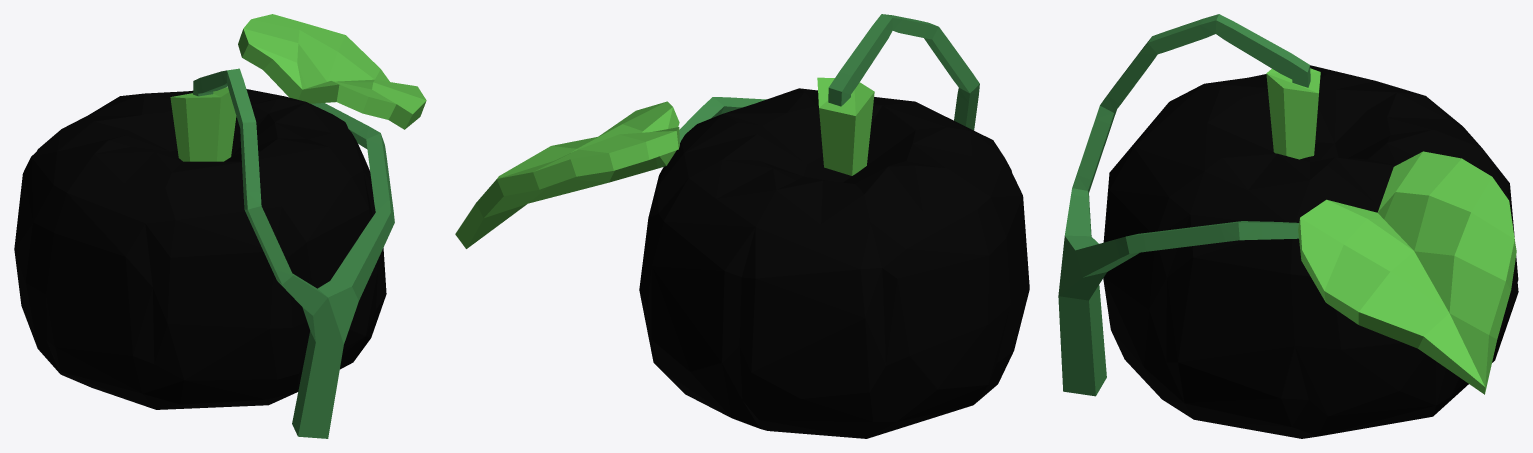
Rendered from Pumpkin_S_Growing.fbx.
3 renders of one model, left to right at view 1: azimuth 30°, elevation 25°; view 2: azimuth 150°, elevation 25°; view 3: azimuth 270°, elevation 25°, orthographic. The views are drawn at different scales.
Visible parts, largest first — view 1: Pumpkin_S_01, Pumpkin_S_01_Groowing; view 2: Pumpkin_S_01, Pumpkin_S_01_Groowing; view 3: Pumpkin_S_01, Pumpkin_S_01_Groowing.
Part boxes in pixels (<box>): Pumpkin_S_01: <box>14,87,386,409</box>; Pumpkin_S_01_Groowing: <box>193,14,426,438</box>; Pumpkin_S_01: <box>639,77,1029,438</box>; Pumpkin_S_01_Groowing: <box>455,14,979,248</box>; Pumpkin_S_01: <box>1103,65,1518,438</box>; Pumpkin_S_01_Groowing: <box>1058,14,1516,396</box>.
Size of the model in its own units: 34.86 by 24.52 by 28.18.
